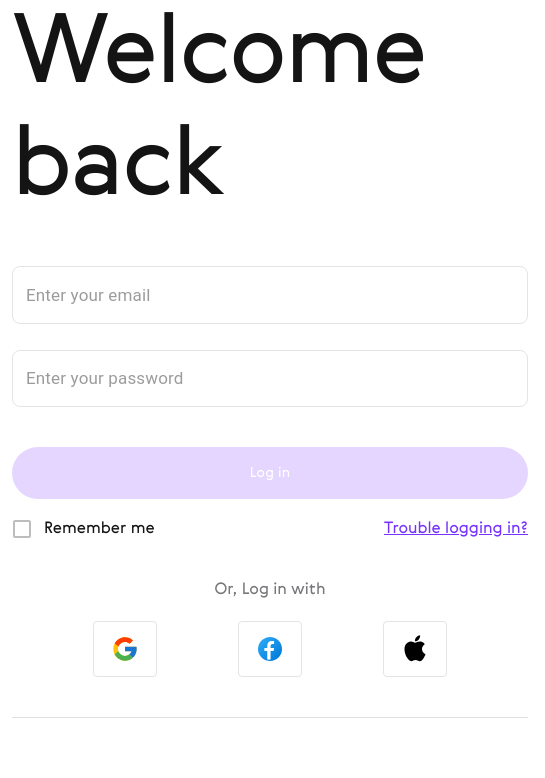
Scenario: Login Card component › password input field updates on change with error
Type "password123" into the password field with placeholder "Enter your password" at (270, 378), box [12,350,528,407]
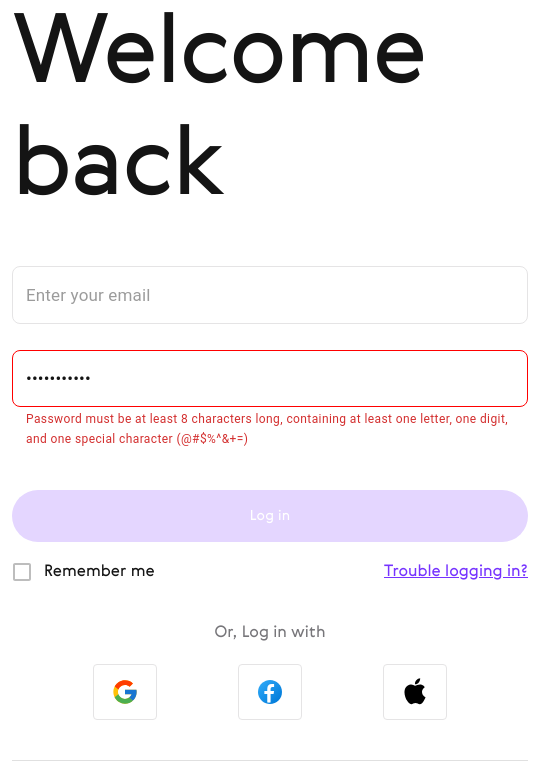
Result: the text "Password must be at least 8 characters long, containing at least one letter, one digit, and one special character (@#$%^" is shown at [26,412,508,446]
